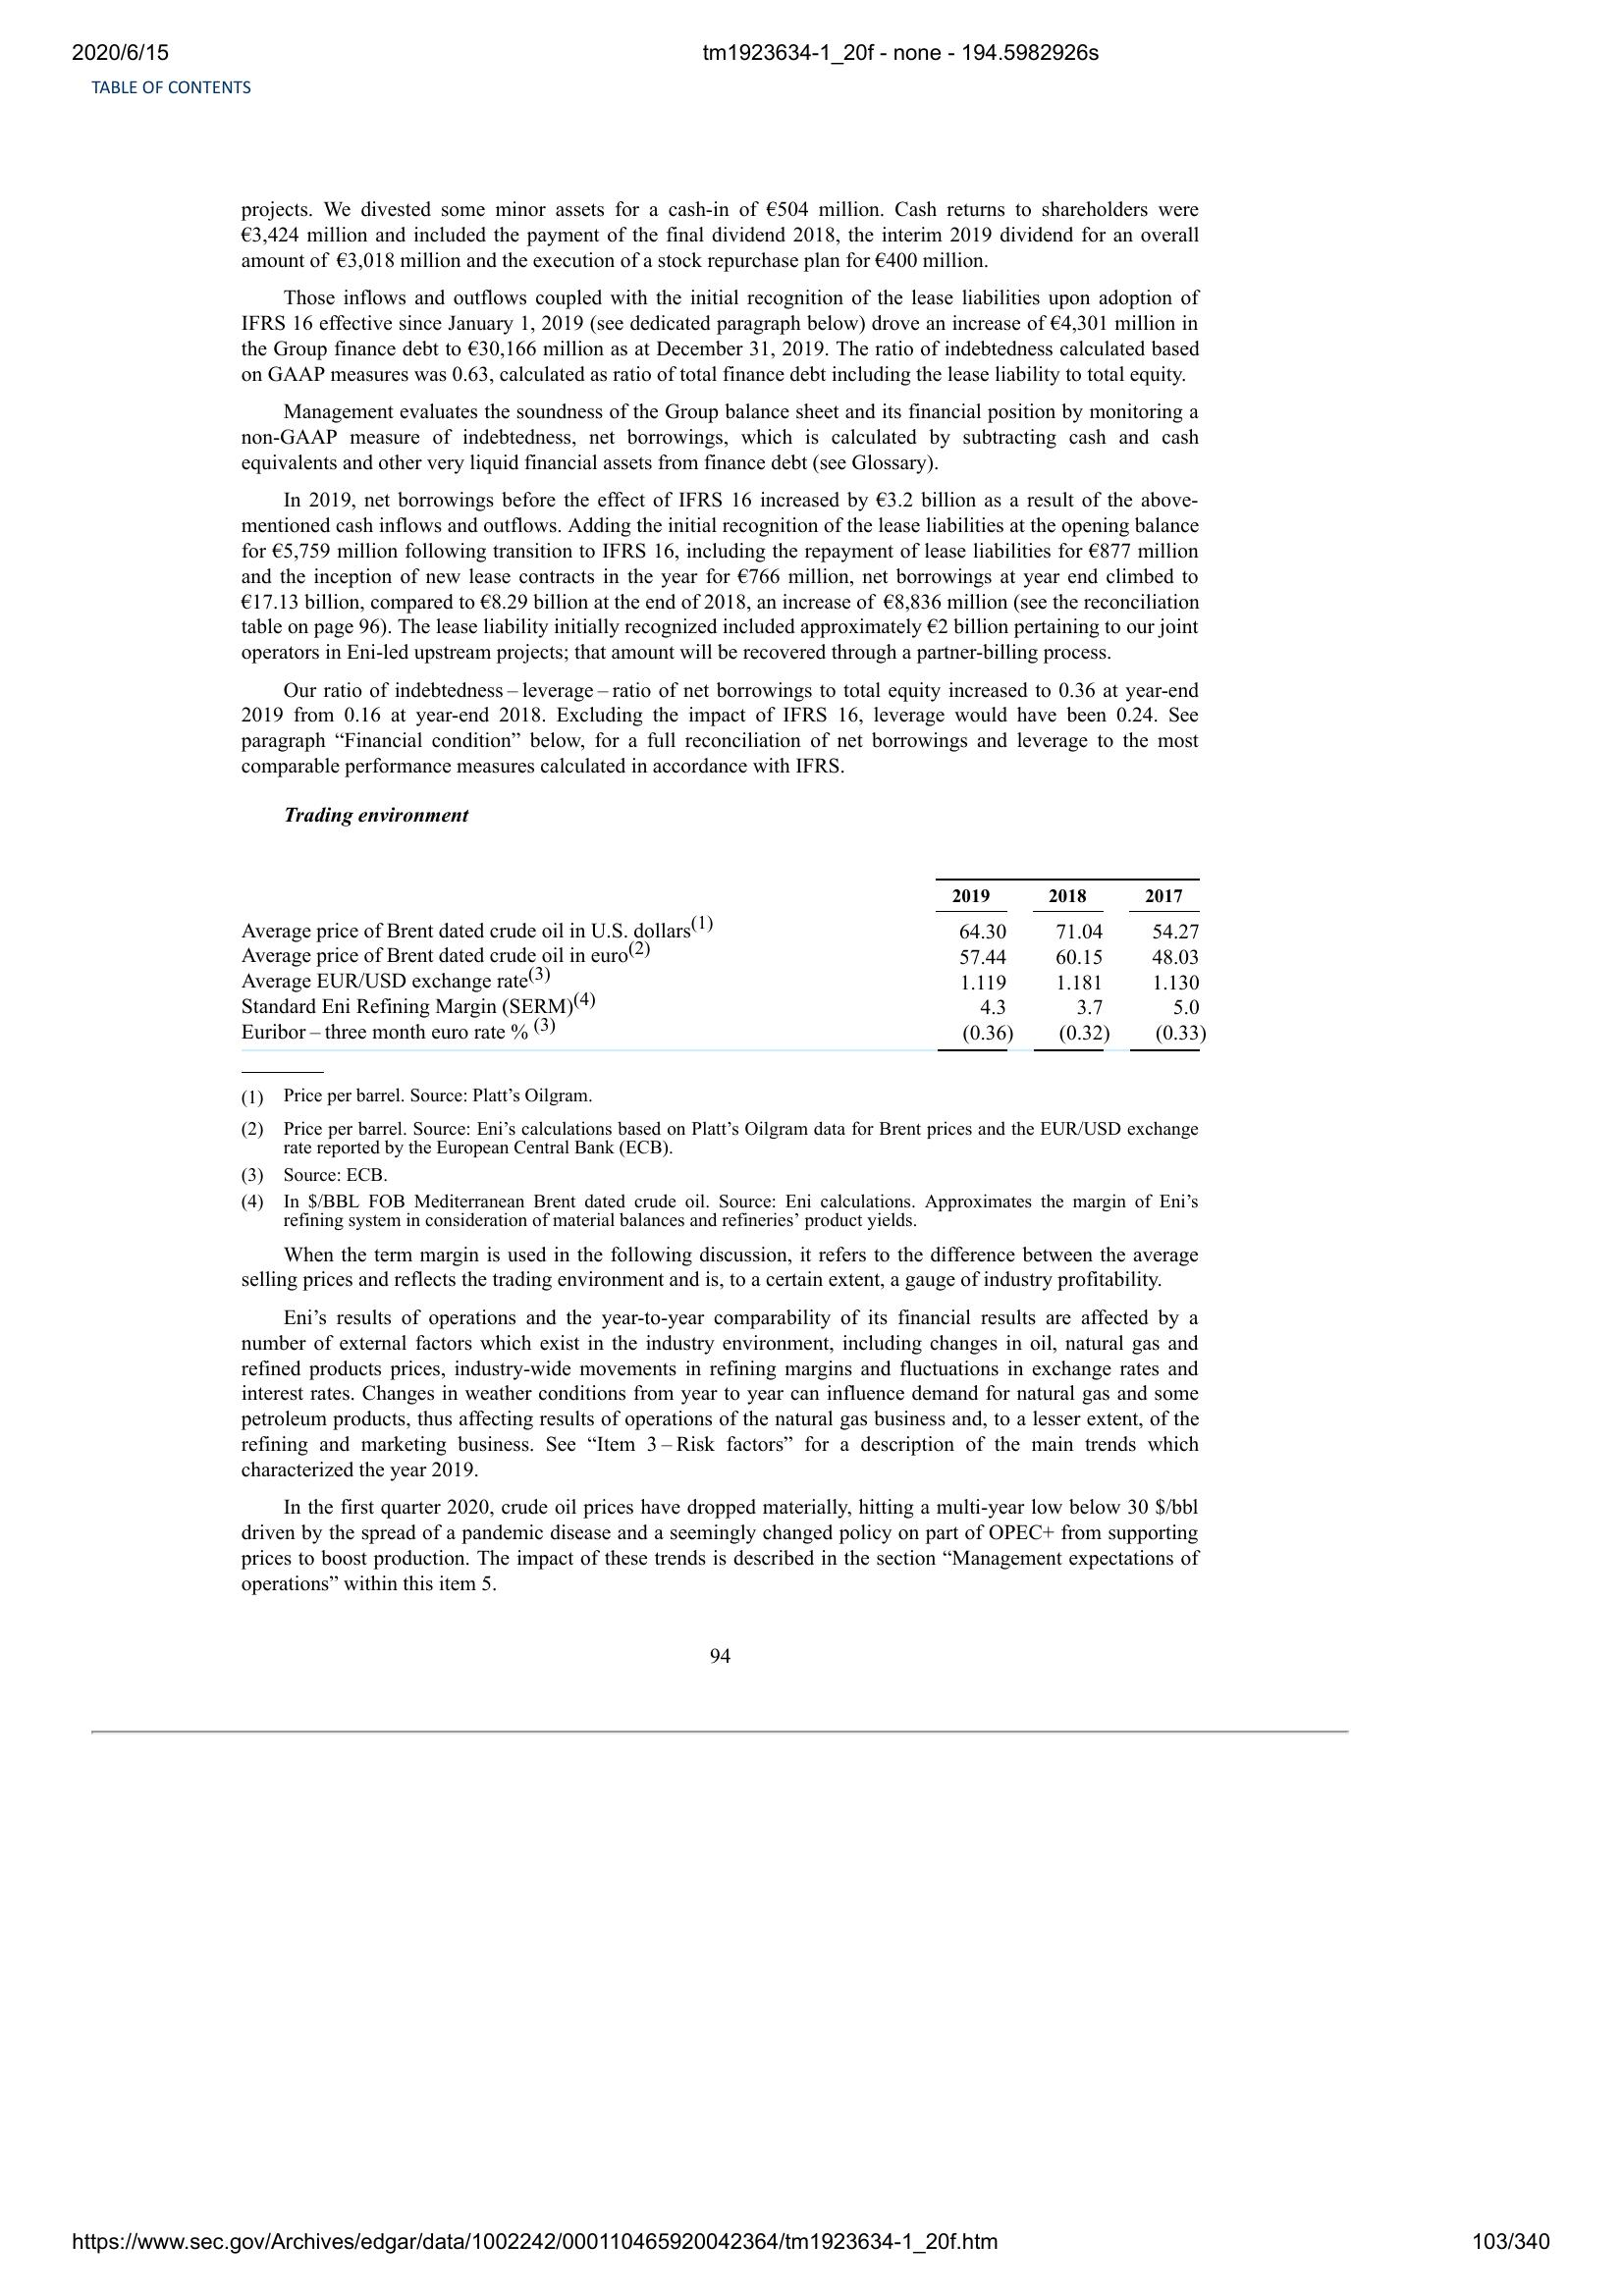table: (235, 872, 1212, 1053)
